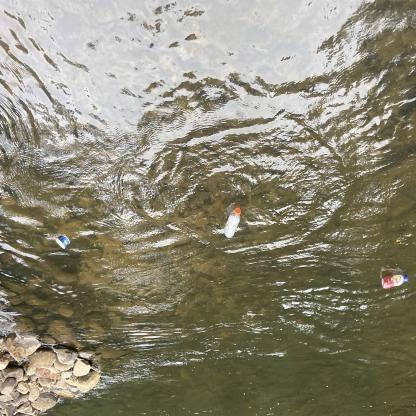Plastic: (224, 204, 244, 243), (378, 267, 410, 291)
Trash: (53, 230, 73, 252)
